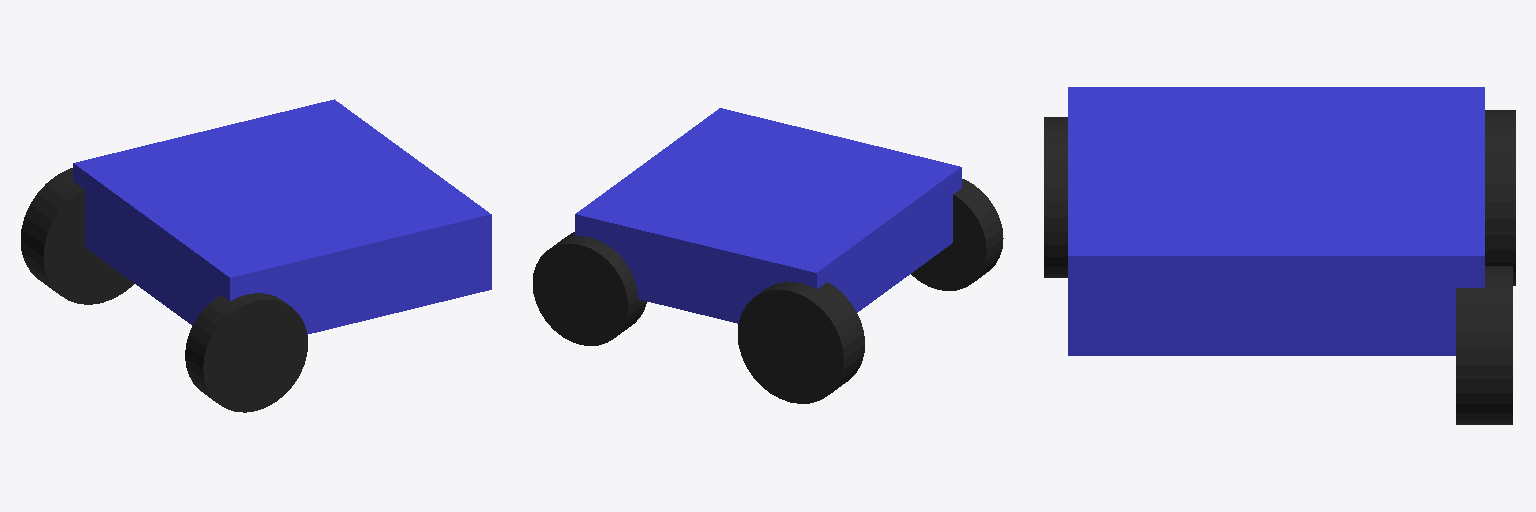
The robot description file, URDF, robot "evolved_robot":
<?xml version="1.0"?>
<robot name="evolved_robot">
  <material name="metal">
    <color rgba="0.7 0.7 0.7 1.0"/>
  </material>
  <material name="plastic">
    <color rgba="0.3 0.3 0.9 1.0"/>
  </material>
  <material name="rubber">
    <color rgba="0.1 0.1 0.1 1.0"/>
  </material>
  <material name="red">
    <color rgba="1.0 0.0 0.0 1.0"/>
  </material>
  <material name="wheel_material">
    <color rgba="0.2 0.2 0.2 1.0"/>
  </material>
  <link name="base_link">
    <visual>
      <geometry><box size="0.31891687218809406 0.3320667164369431 0.0881198514153188"/></geometry>
      <material name="plastic"/>
    </visual>
    <collision>
      <geometry><box size="0.31891687218809406 0.3320667164369431 0.0881198514153188"/></geometry>
    </collision>
    <inertial>
      <mass value="5.0"/>
      <inertia ixx="0.09836117698222585" ixy="0" ixz="0" 
               iyy="0.09122756631641249" iyz="0" 
               izz="0.17664689627620855"/>
    </inertial>
  </link>
  <link name="link1">
    <visual>
      <geometry>
        <cylinder radius="0.06324150669246592" length="0.04539867827197491"/>
      </geometry>
      <material name="wheel_material"/>
    </visual>
    <collision>
      <geometry>
        <cylinder radius="0.06324150669246592" length="0.04539867827197491"/>
      </geometry>
    </collision>
    <inertial>
      <mass value="1.0"/>
      <inertia ixx="0.001171625374586827" ixy="0" ixz="0" 
               iyy="0.001171625374586827" iyz="0" 
               izz="0.001999744084366606"/>
    </inertial>
  </link>
  <joint name="joint1" type="continuous">
    <parent link="base_link"/>
    <child link="link1"/>
    <origin xyz="0.13945843609404704 0.16603335821847154 -0.0440599257076594" rpy="1.5708 0 0"/>
    <axis xyz="0 0 1"/>
    <dynamics damping="0.9392346545116605" friction="0.1"/>
  </joint>
  <link name="link2">
    <visual>
      <geometry>
        <cylinder radius="0.07032401565002347" length="0.04882759219463949"/>
      </geometry>
      <material name="wheel_material"/>
    </visual>
    <collision>
      <geometry>
        <cylinder radius="0.07032401565002347" length="0.04882759219463949"/>
      </geometry>
    </collision>
    <inertial>
      <mass value="1.0"/>
      <inertia ixx="0.0014350446075800214" ixy="0" ixz="0" 
               iyy="0.0014350446075800214" iyz="0" 
               izz="0.002472733588572373"/>
    </inertial>
  </link>
  <joint name="joint2" type="continuous">
    <parent link="base_link"/>
    <child link="link2"/>
    <origin xyz="-0.13945843609404704 0.16603335821847154 -0.0440599257076594" rpy="1.5708 0 0"/>
    <axis xyz="0 0 1"/>
    <dynamics damping="0.7134914292086498" friction="0.1"/>
  </joint>
  <link name="link3">
    <visual>
      <geometry>
        <cylinder radius="0.0642425598231753" length="0.03823897410295343"/>
      </geometry>
      <material name="wheel_material"/>
    </visual>
    <collision>
      <geometry>
        <cylinder radius="0.0642425598231753" length="0.03823897410295343"/>
      </geometry>
    </collision>
    <inertial>
      <mass value="1.0"/>
      <inertia ixx="0.0011536282181957595" ixy="0" ixz="0" 
               iyy="0.0011536282181957595" iyz="0" 
               izz="0.0020635532463171282"/>
    </inertial>
  </link>
  <joint name="joint3" type="continuous">
    <parent link="base_link"/>
    <child link="link3"/>
    <origin xyz="-0.13945843609404704 -0.16603335821847154 -0.0440599257076594" rpy="1.5708 0 0"/>
    <axis xyz="0 0 1"/>
    <dynamics damping="0.6988423824039728" friction="0.1"/>
  </joint>
</robot>

--- What the picture shows (computed from the rendered views, not written in the file) ---
3 views of the same robot in one strip: view 1: azimuth 30°, elevation 25°; view 2: azimuth 150°, elevation 25°; view 3: azimuth 270°, elevation 25° (orthographic).
Model evolved_robot with 4 links and 3 joints (3 continuous), rooted at base_link, posed all joints at 0.
Links seen in each view (by area): view 1: base_link, link3, link2; view 2: base_link, link2, link1, link3; view 3: base_link, link1, link2, link3.
Link boxes in pixels (bbox=[...]): base_link: bbox=[73, 99, 491, 334]; link3: bbox=[185, 293, 307, 412]; link2: bbox=[21, 168, 134, 304]; base_link: bbox=[575, 108, 961, 323]; link2: bbox=[738, 282, 864, 403]; link1: bbox=[533, 232, 646, 345]; link3: bbox=[911, 179, 1003, 290]; base_link: bbox=[1068, 87, 1484, 355]; link1: bbox=[1456, 266, 1512, 424]; link2: bbox=[1485, 110, 1515, 285]; link3: bbox=[1044, 117, 1067, 277].
Size in the robot's own frame: 0.4125 by 0.3756 by 0.1584 metres.
Geometry: primitives only (box / cylinder / sphere), no mesh files.